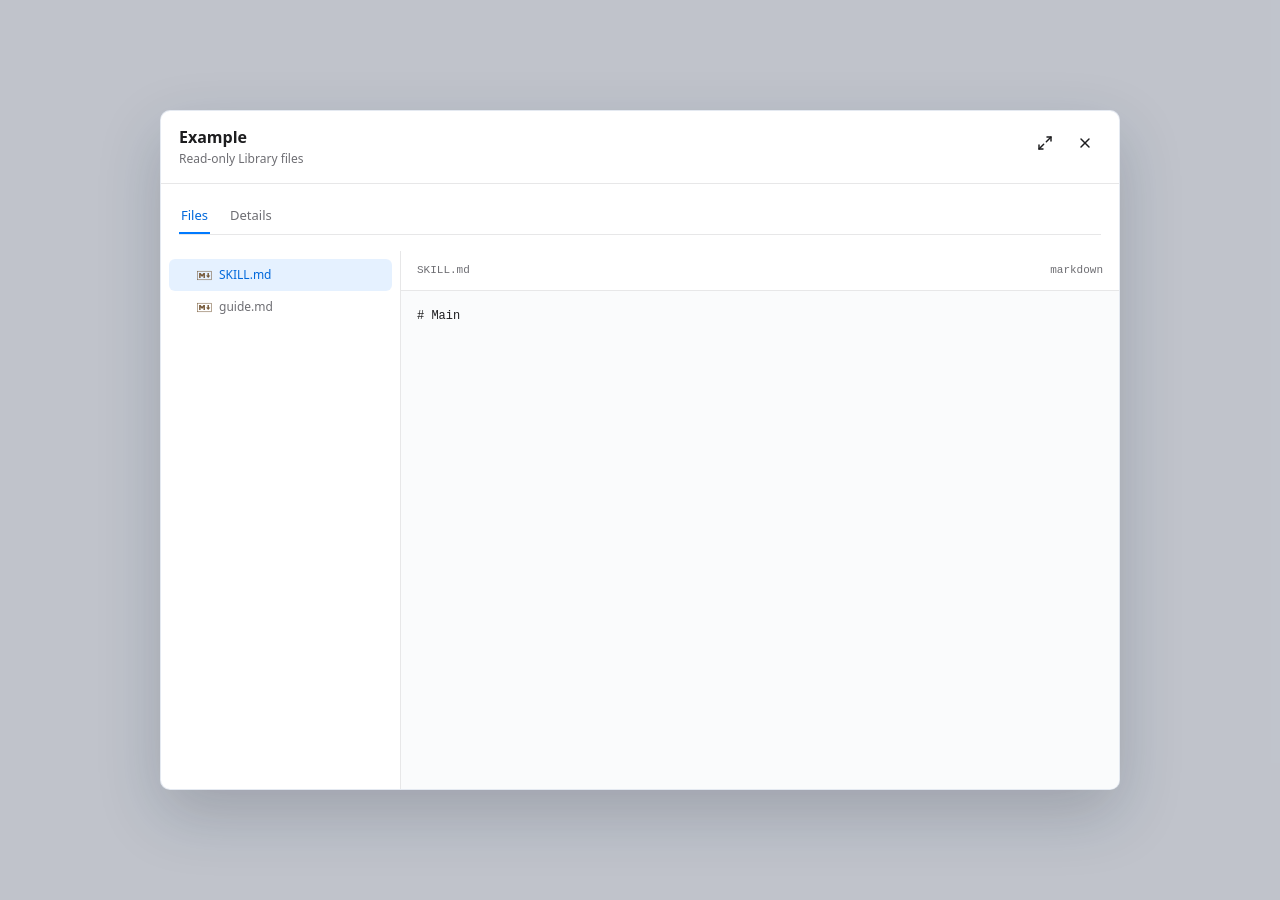
SkillFileBrowserDialog › retries the selected nested file without resetting to SKILL.md
This screenshot has width=1280, height=900.
Expected: the text "# Main" is shown, [417,309,460,323]
Click the button "guide.md" at x=280, y=307, box [169,291,392,323]
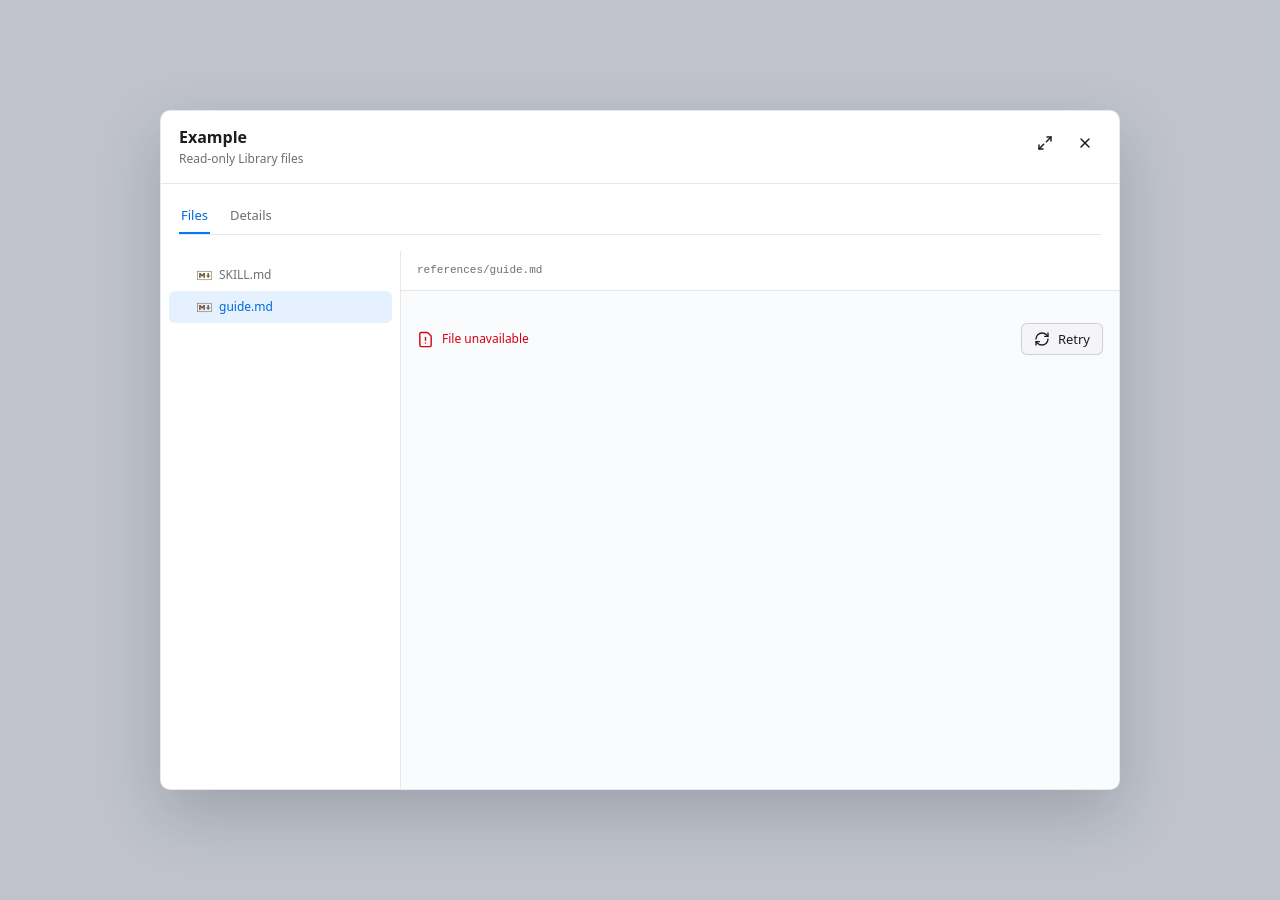
Expected: the message "File unavailable Retry" is shown, [417,323,1103,355]
Click the button "Retry" at x=1062, y=339, box [1021,323,1103,355]
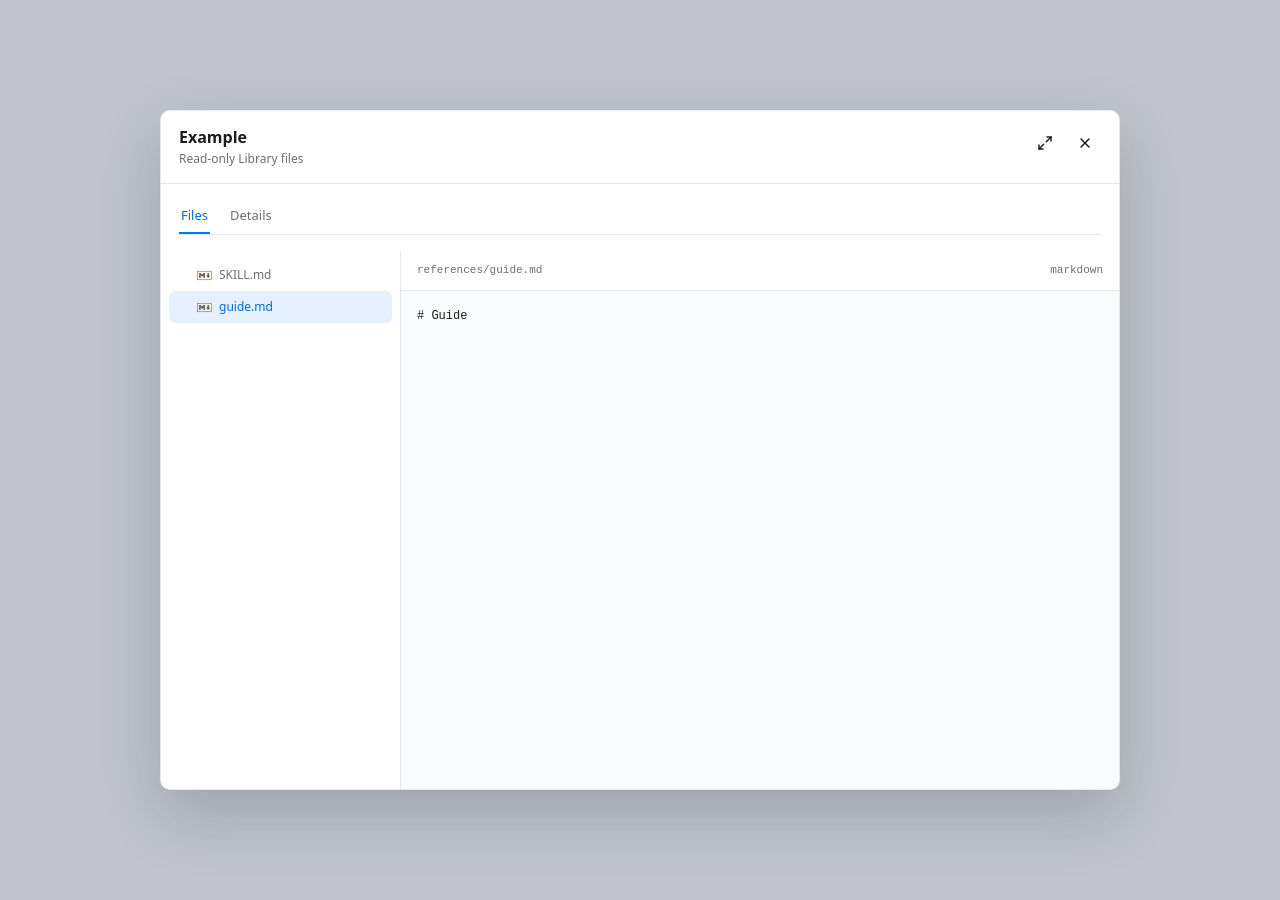
Expected: the text "# Guide" is shown, [417,309,467,323]
